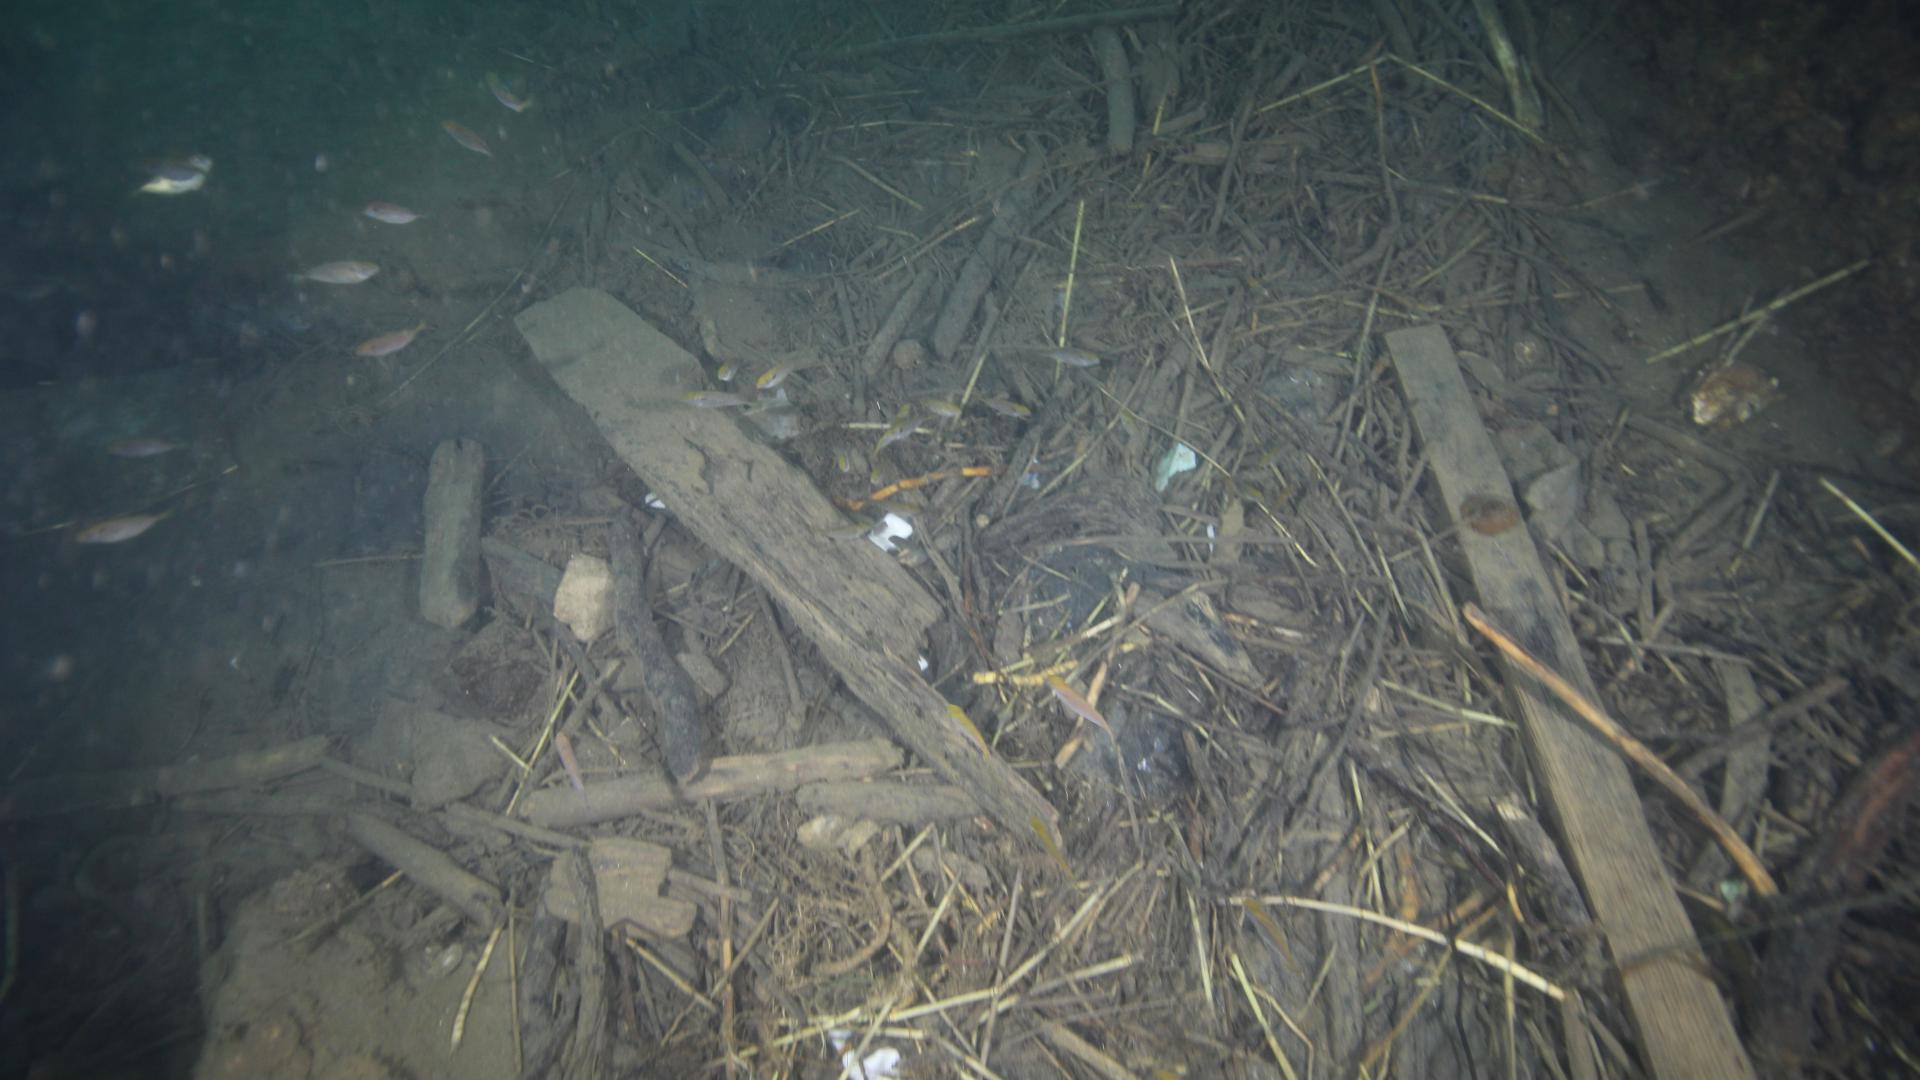wood: (513, 285, 1062, 849), (1383, 324, 1754, 1080), (527, 737, 903, 825), (418, 435, 483, 622)
